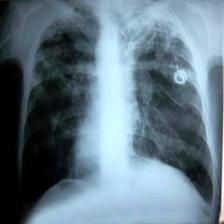tuberculosis: (18, 2, 218, 224)
